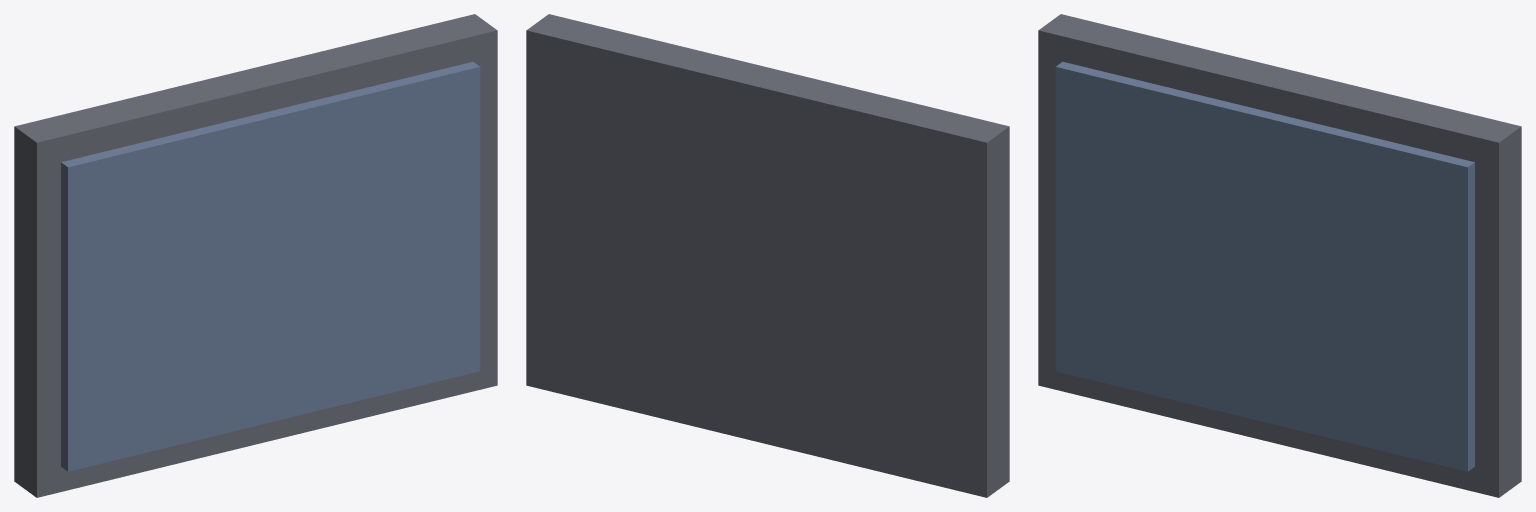
The model's file is 29_floor_pad.glb.
The picture shows the model from 3 angles, left to right: view 1: azimuth 30°, elevation 25°; view 2: azimuth 150°, elevation 25°; view 3: azimuth 330°, elevation 25°; orthographic projection.
Visible parts, largest first — view 1: part_2, part_1; view 2: part_1; view 3: part_2, part_1.
Part boxes in pixels (box(x1,y1,x2,y2)): part_2: box(61, 62, 480, 471); part_1: box(14, 14, 497, 497); part_1: box(526, 14, 1009, 497); part_2: box(1055, 62, 1474, 471); part_1: box(1038, 14, 1521, 497).
Bounding box in the file's own units: 0.95 × 0.7 × 0.105.
